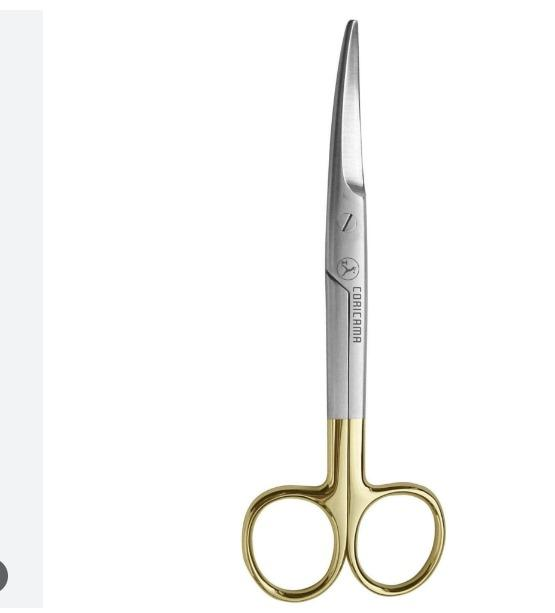Curved Mayo: (245, 14, 448, 595)
